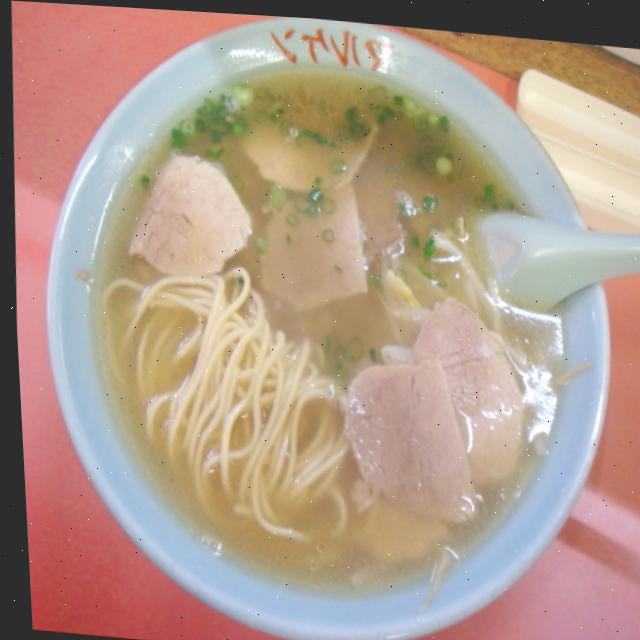面条主食: (70, 36, 595, 604)
